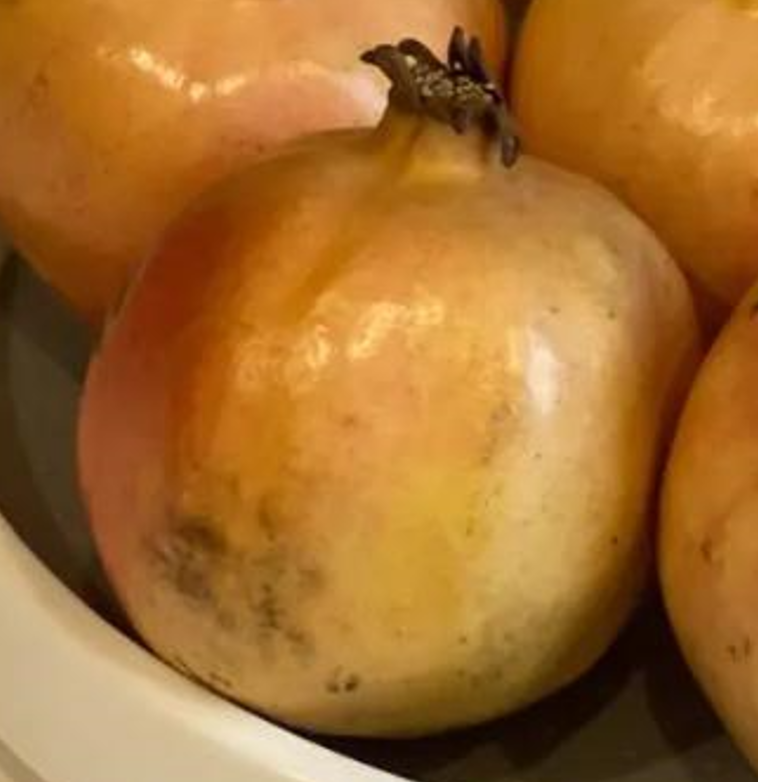pomegranate_B: (75, 24, 708, 736)
